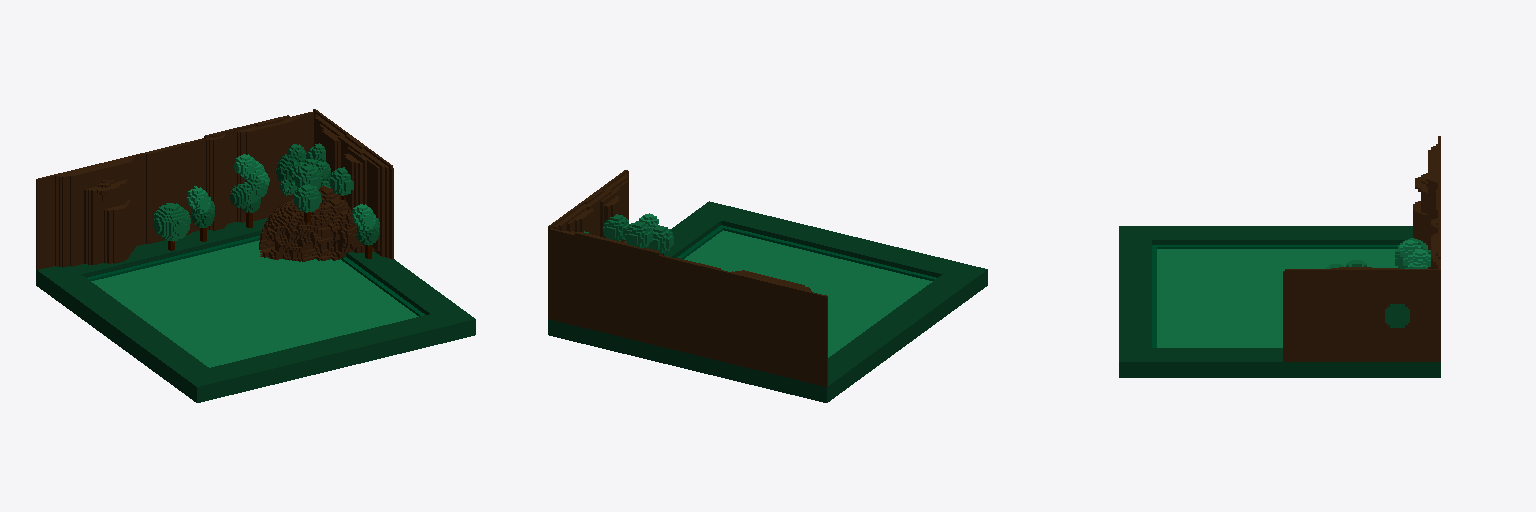
3 views of the same model, side by side, from view 1: azimuth 30°, elevation 25°; view 2: azimuth 150°, elevation 25°; view 3: azimuth 270°, elevation 25° (orthographic).
Bounding box in the file's own units: 126 × 47 × 126.
Materials: 1 (1 with a texture image).